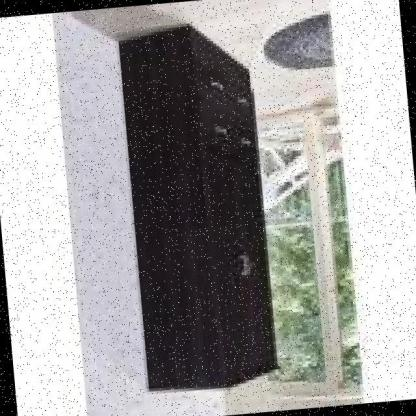Closet: (110, 12, 286, 400)
